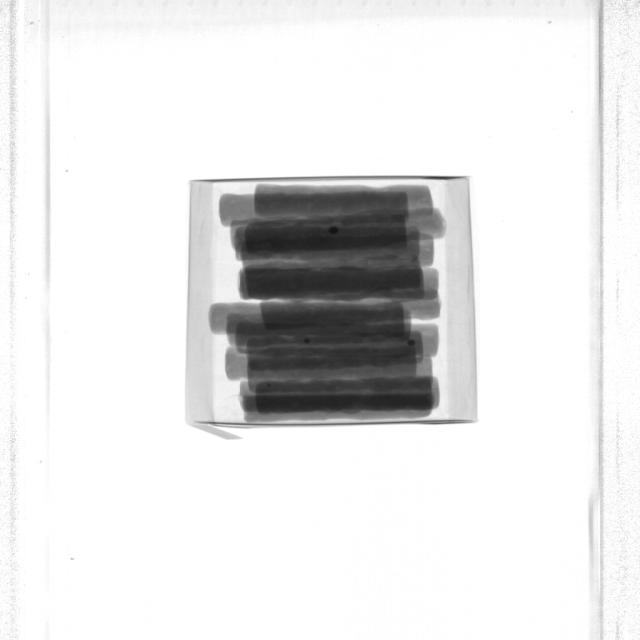ym: (329, 226, 340, 235), (408, 340, 416, 346), (305, 339, 310, 344), (267, 384, 271, 388)
